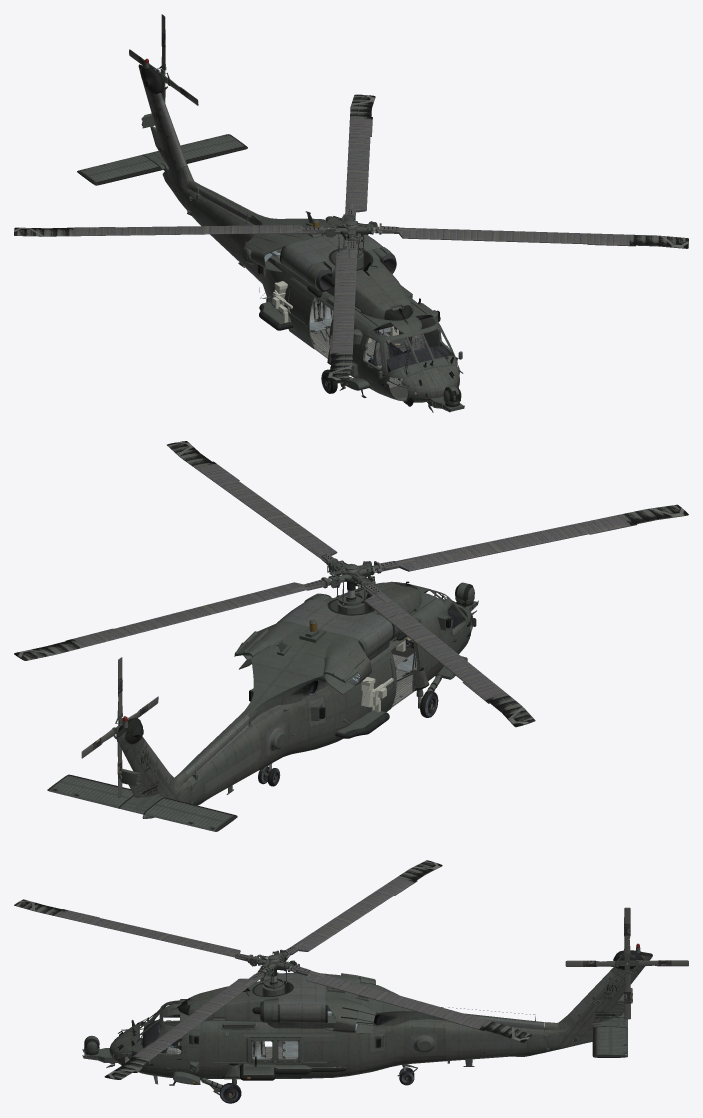
The model's file is mh-60r_seahawk.glb.
3 renders of one model, top to bottom at view 1: azimuth 30°, elevation 25°; view 2: azimuth 150°, elevation 25°; view 3: azimuth 270°, elevation 25°, orthographic. The views are drawn at different scales.
Parts seen in each view (by area): view 1: Main_Rotor, Object_9, Object_20, Object_12, Object_13, Object_18, Object_19, Object_17, Object_2, Object_5, Object_8, Object_10 (+4 smaller); view 2: Main_Rotor, Object_9, Object_20, Object_12, Object_13, Object_18, Object_8, Object_2, Object_11, Object_17, Tail_Rotor, Object_19 (+4 smaller); view 3: Main_Rotor, Object_9, Object_21, Object_19, Object_13, Object_20, Object_12, Object_18, Object_10, Tail_Rotor, Object_17, Object_16 (+7 smaller).
Part boxes in pixels (x1,y1,x2,y2): Main_Rotor: (14,94,688,380); Object_9: (187,185,459,391); Object_20: (188,192,425,388); Object_12: (77,69,463,412); Object_13: (138,62,459,404); Object_18: (154,65,463,406); Object_19: (187,195,459,403); Object_17: (155,66,462,386); Object_2: (309,298,459,400); Object_5: (311,301,449,372); Object_8: (192,185,457,404); Object_10: (199,185,455,397); Main_Rotor: (14,441,688,727); Object_9: (180,581,470,803); Object_20: (188,561,476,805); Object_12: (47,589,477,831); Object_13: (116,592,468,818); Object_18: (112,585,472,770); Object_8: (184,582,469,803); Object_2: (387,581,472,706); Object_11: (119,578,478,794); Object_17: (113,577,476,741); Tail_Rotor: (81,657,158,797); Object_19: (191,585,472,804); Main_Rotor: (14,860,532,1079); Object_9: (127,973,547,1084); Object_21: (110,947,445,1079); Object_19: (109,1008,547,1084); Object_13: (85,947,652,1095); Object_20: (121,958,548,1060); Object_12: (82,951,649,1084); Object_18: (110,953,638,1073); Object_10: (109,972,547,1080); Tail_Rotor: (565,907,688,1019); Object_17: (147,953,637,1069); Object_16: (149,954,304,1064).
Bounding box in the file's own units: 1690 × 647 × 2196.
4 materials, 3 textured.
